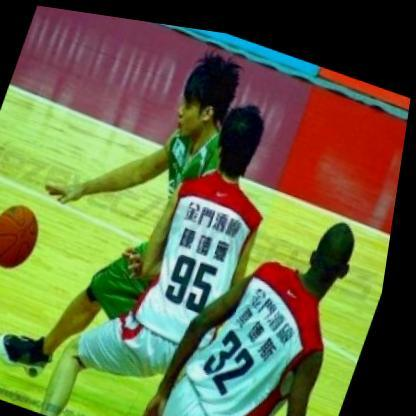basketball: (0, 189, 58, 278)
